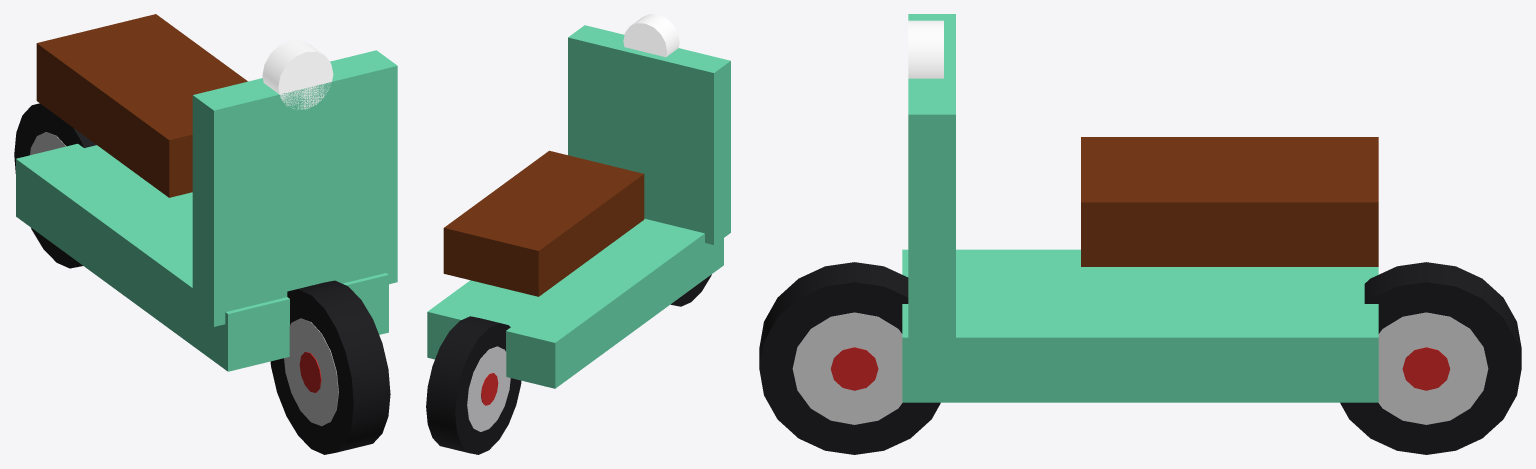
The model's file is scooter.glb.
The picture shows the model from 3 angles, left to right: view 1: azimuth 30°, elevation 25°; view 2: azimuth 150°, elevation 25°; view 3: azimuth 270°, elevation 25°; orthographic projection. The views are drawn at different scales.
Size of the model in its own units: 0.3125 by 0.6094 by 1.
